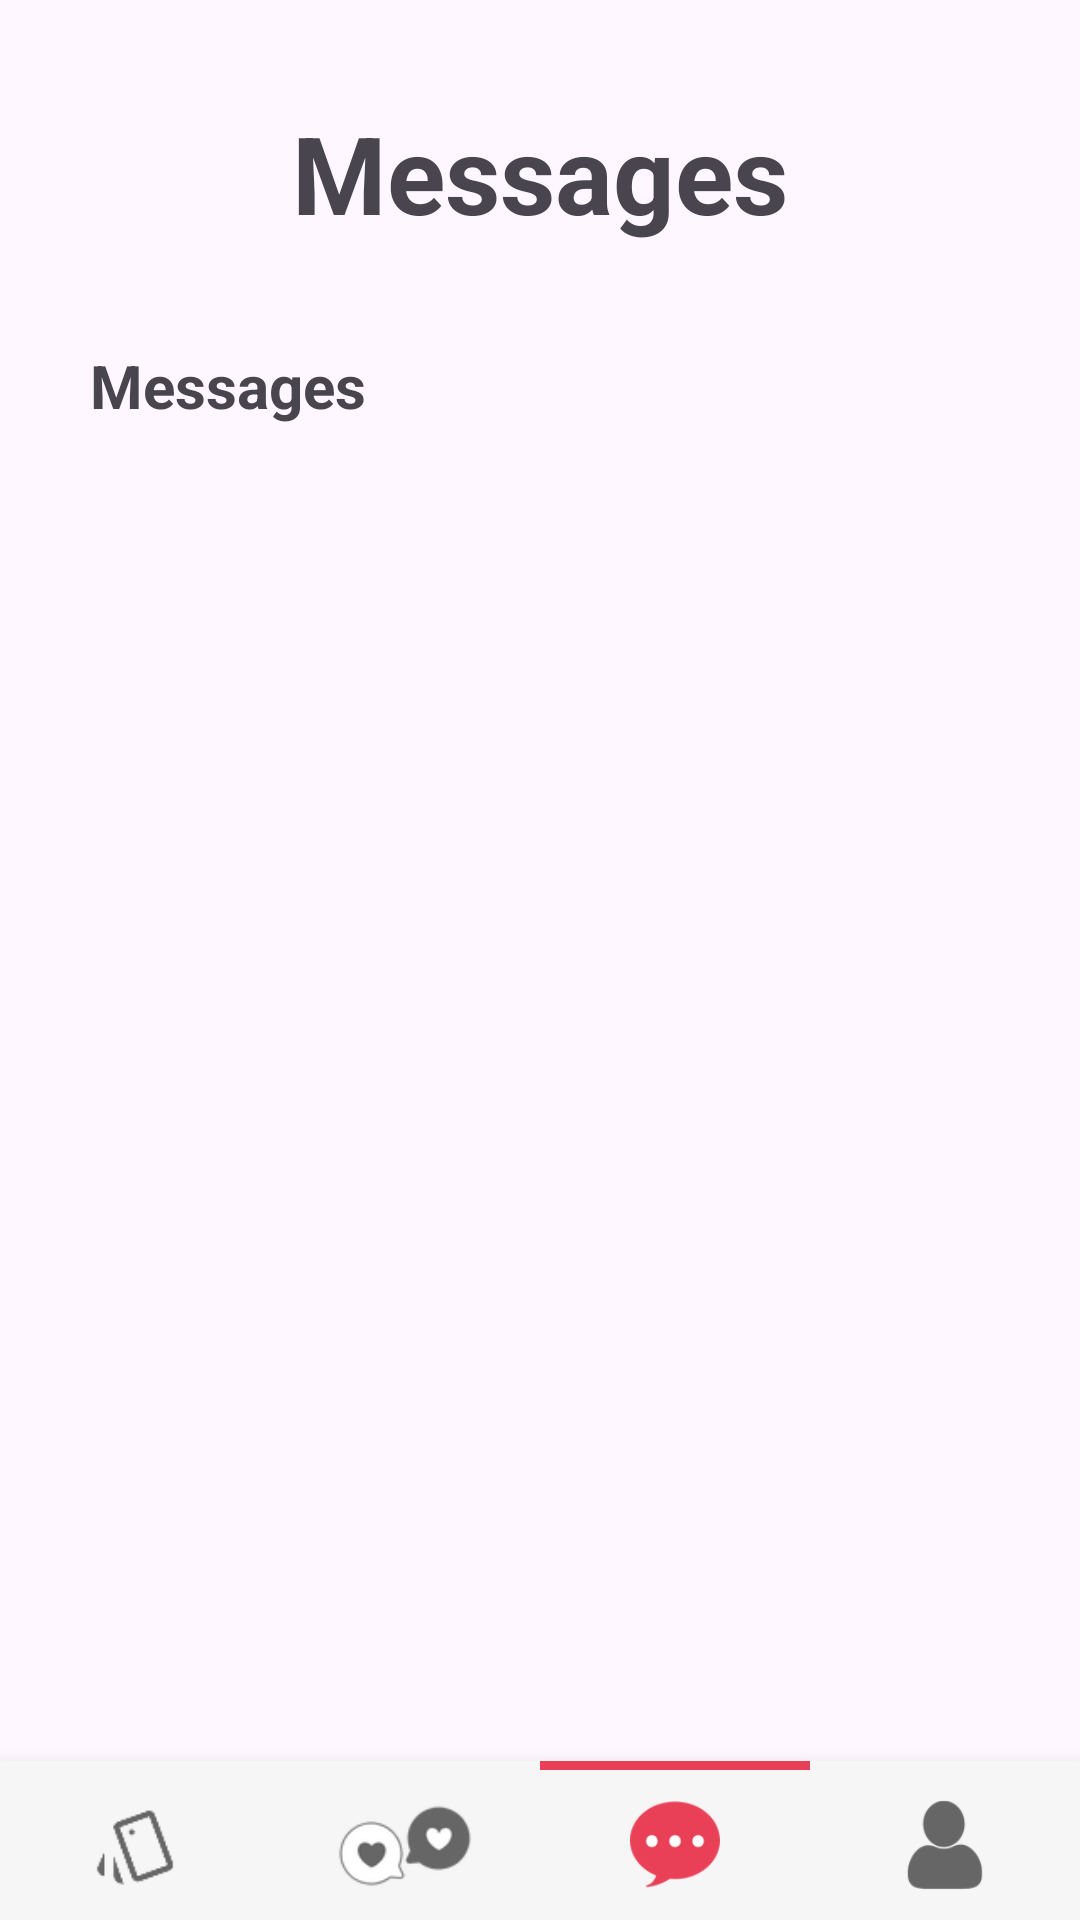

Locate icon controls on the screen. Image size 1080w x 1920h, boxes as (x1, y1, x2, y2).
messages: (630, 1801, 720, 1888)
profile: (907, 1801, 982, 1889)
